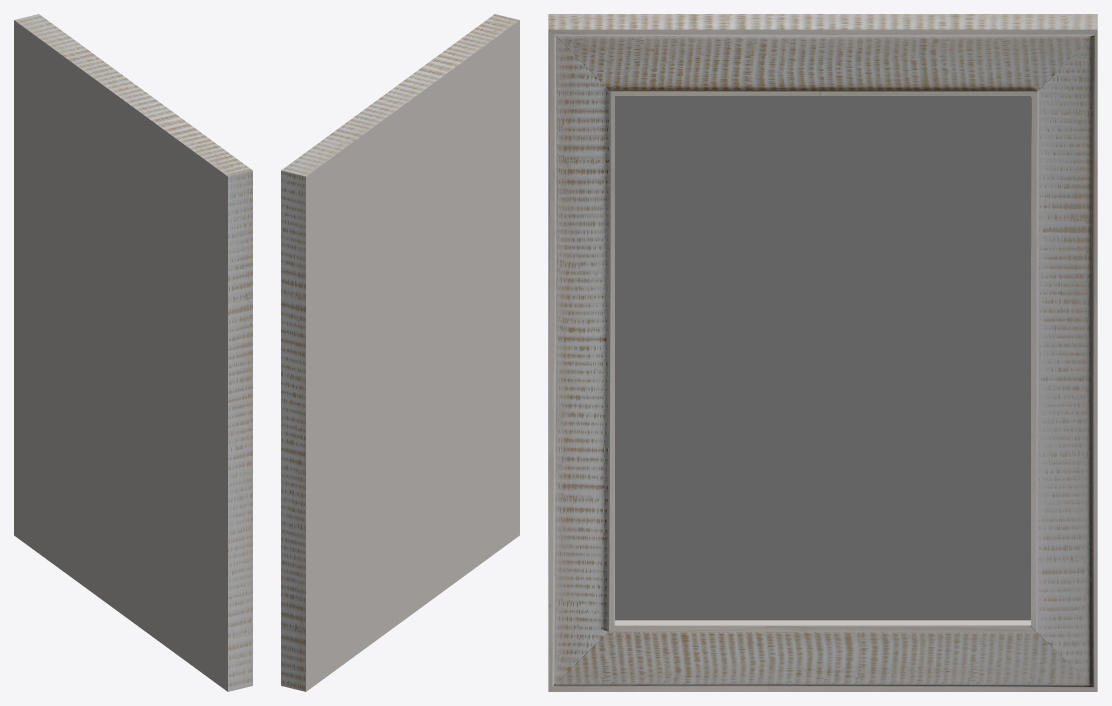
The model's file is Mirror 17.FBX.
3 renders of one model, left to right at view 1: azimuth 30°, elevation 25°; view 2: azimuth 150°, elevation 25°; view 3: azimuth 270°, elevation 25°, orthographic. The views are drawn at different scales.
Parts seen in each view (by area): view 1: mirror 17; view 2: mirror 17; view 3: mirror 17.
Part boxes in pixels (x1,y1,x2,y2): mirror 17: [14, 14, 252, 691]; mirror 17: [281, 14, 519, 691]; mirror 17: [548, 14, 1097, 691].
Bounding box in the file's own units: 4.56 × 89.98 × 67.66.
2 materials, 1 textured.
